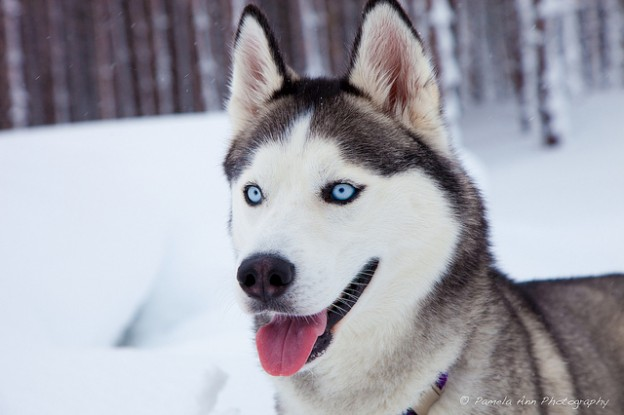husky: (209, 7, 516, 403)
